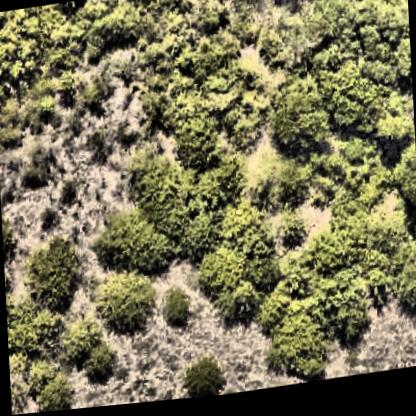tree-top: (134, 157, 238, 248), (0, 0, 82, 90), (260, 297, 332, 389), (306, 0, 388, 79), (260, 80, 332, 164), (15, 235, 85, 316), (238, 147, 315, 219), (191, 243, 258, 325), (93, 204, 165, 280), (316, 68, 388, 144), (93, 264, 160, 342), (322, 269, 374, 358), (121, 154, 188, 219), (60, 313, 116, 388), (299, 226, 364, 290), (163, 106, 224, 174), (5, 299, 62, 365), (379, 241, 416, 322), (210, 200, 262, 251), (89, 0, 142, 50), (28, 366, 77, 414), (177, 356, 225, 403), (392, 147, 416, 228), (160, 292, 191, 331), (0, 206, 18, 262), (300, 0, 391, 5), (263, 0, 308, 2)
